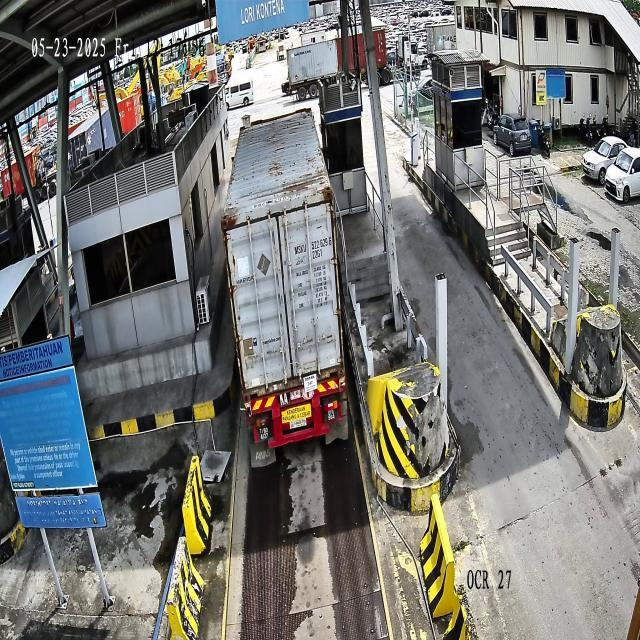ISO: (312, 248, 323, 260)
container_number: (294, 236, 332, 256)
